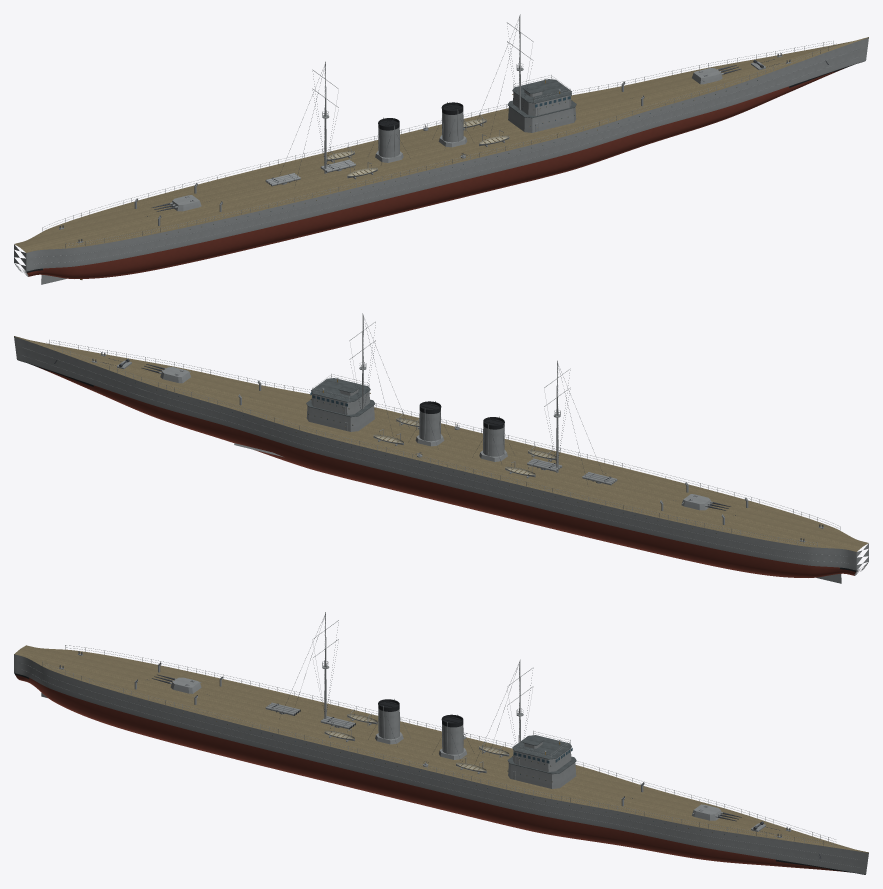
Rendered from swift_cl29.glb.
3 views of the same model, one above another, from view 1: azimuth 30°, elevation 25°; view 2: azimuth 150°, elevation 25°; view 3: azimuth 330°, elevation 25° (orthographic).
Visible parts, largest first — view 1: Swift class; view 2: Swift class; view 3: Swift class.
Part boxes in pixels (box(x1,y1,x2,y2)): Swift class: box(14, 14, 868, 284); Swift class: box(14, 313, 868, 583); Swift class: box(14, 612, 868, 874).
Size of the model in its own units: 195 by 34.16 by 17.49.
Materials: 9 (8 with a texture image).
